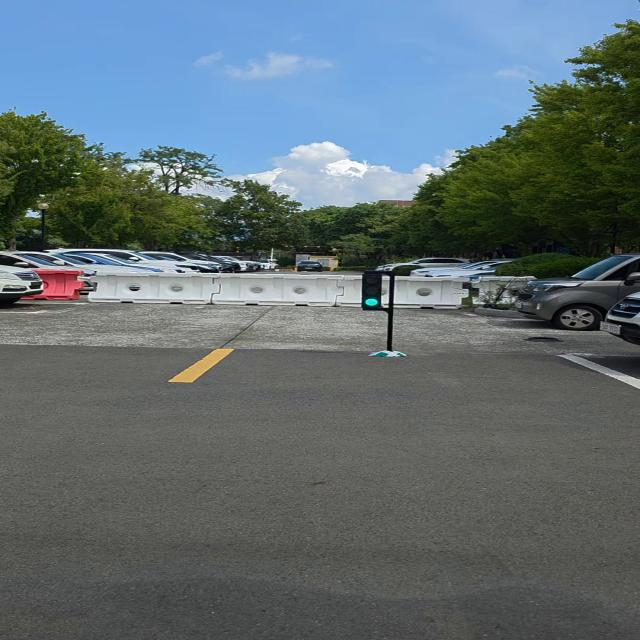green: (362, 273, 389, 310)
